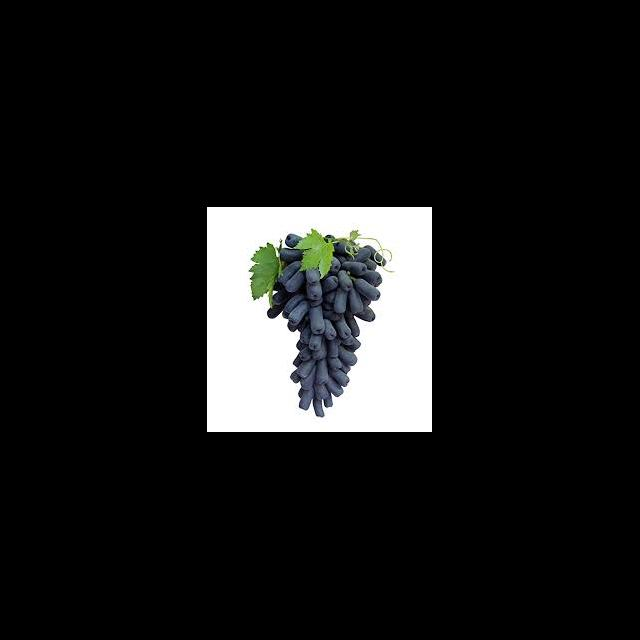grape: (266, 230, 392, 418)
